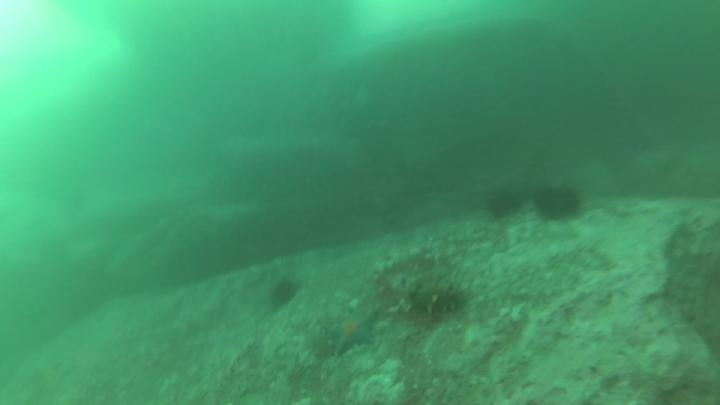echinus: (533, 184, 584, 223), (486, 187, 526, 222), (267, 275, 304, 308)
holothurian: (371, 271, 466, 317)
starfish: (321, 307, 382, 358)
